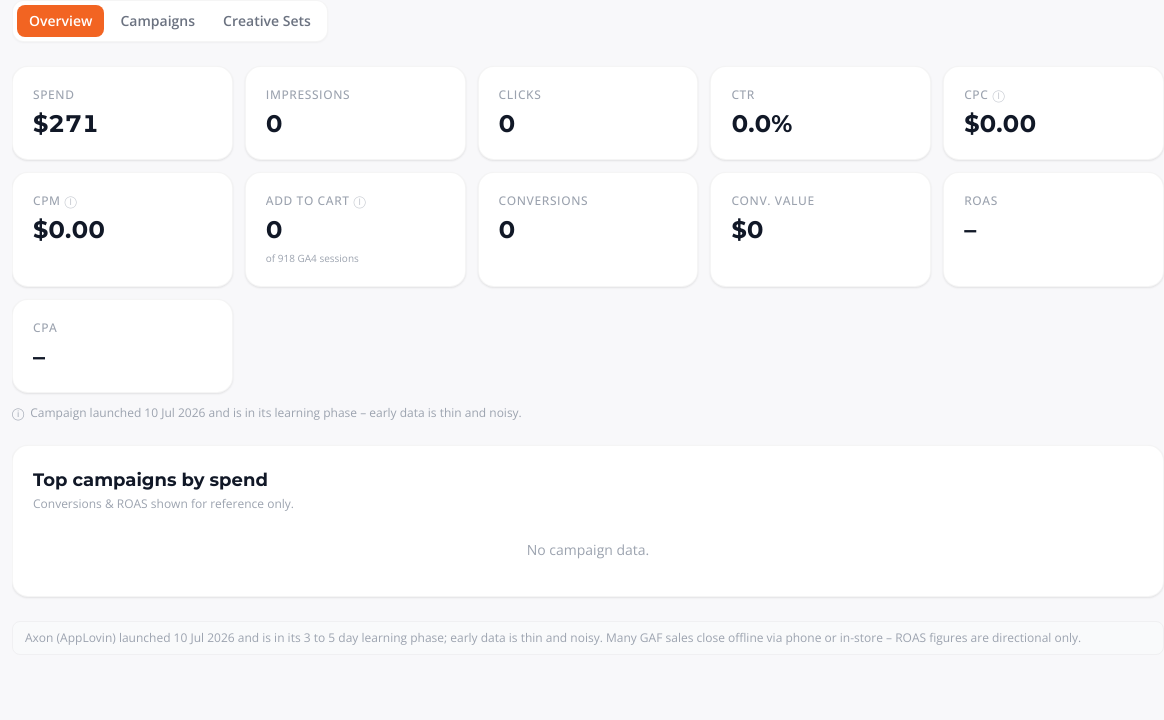
it: renders the GA4 Axon-channel add-to-cart card with its session base and GA4 tooltip
Check: the text "of 918 GA4 sessions" is shown, box 266,251 -> 359,265
# Tooltip opens on click and attributes the metric to GA4
Click the button "Add to Cartⓘ".
click(316, 200)  # box 266,192 -> 366,209
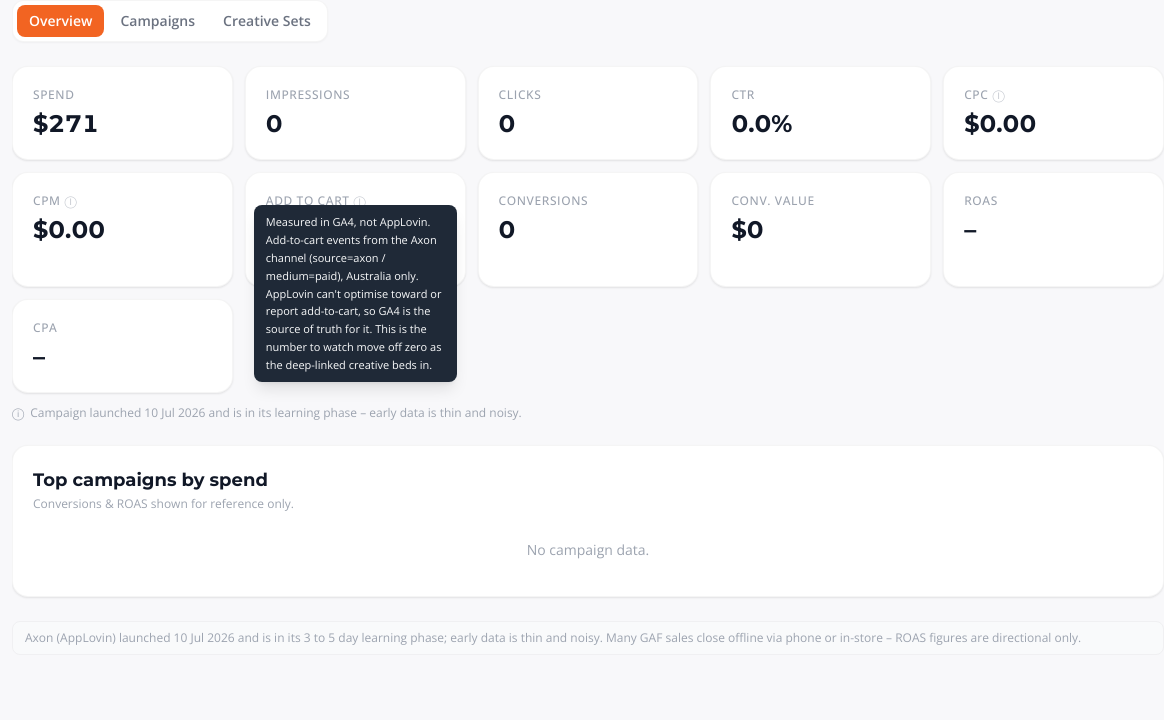
Check: the tooltip "Measured in GA4, not AppLovin" is shown, box 266,214 -> 441,372
